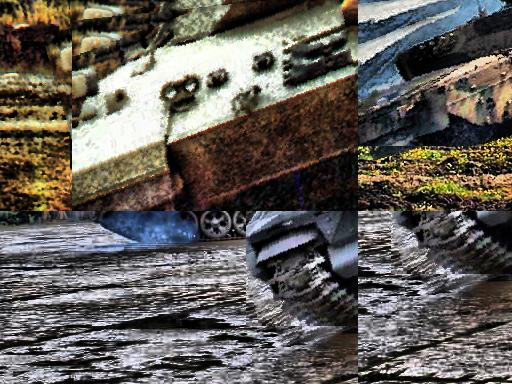tanks: (74, 1, 359, 212), (359, 1, 512, 147), (247, 212, 359, 326), (395, 212, 512, 274), (95, 212, 260, 242)
